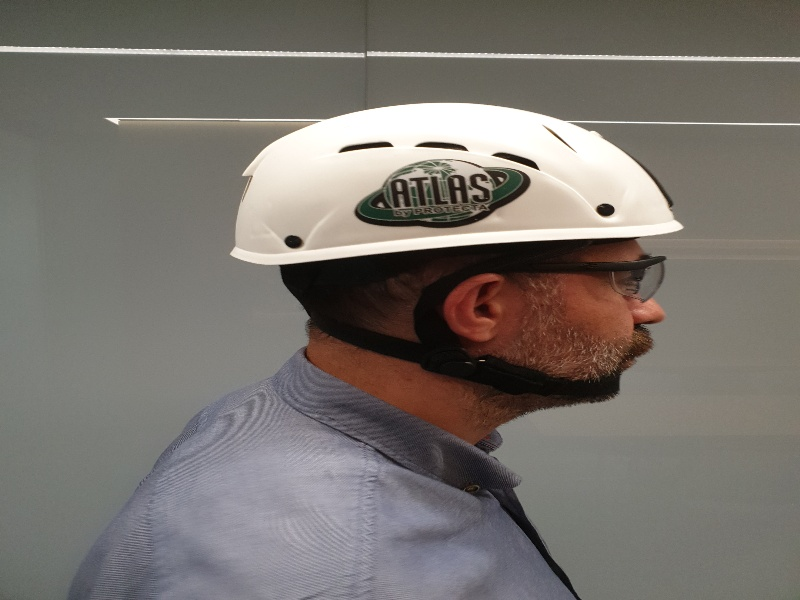Baret: (236, 100, 687, 259)
Gozluk: (514, 254, 666, 304)
